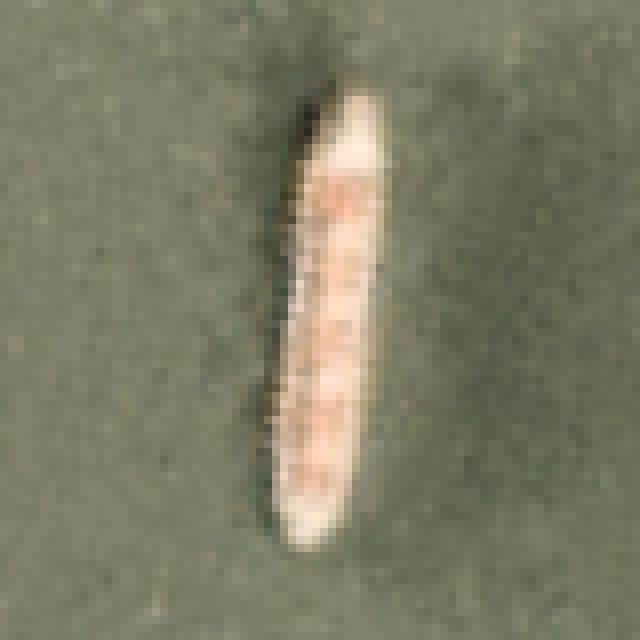ship: (208, 51, 462, 571)
